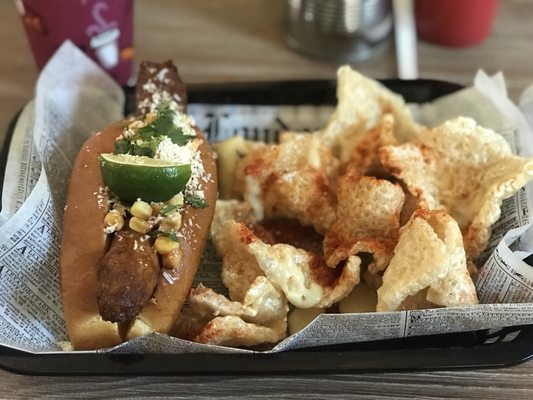pizza: (16, 0, 138, 86)
soup: (192, 63, 529, 354), (58, 100, 219, 351)
